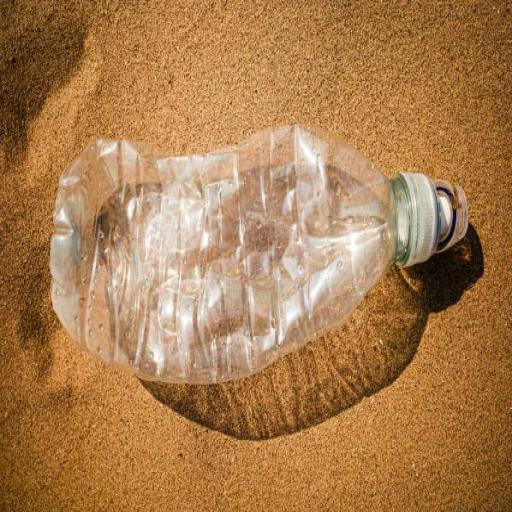bottles: (51, 127, 467, 383)
